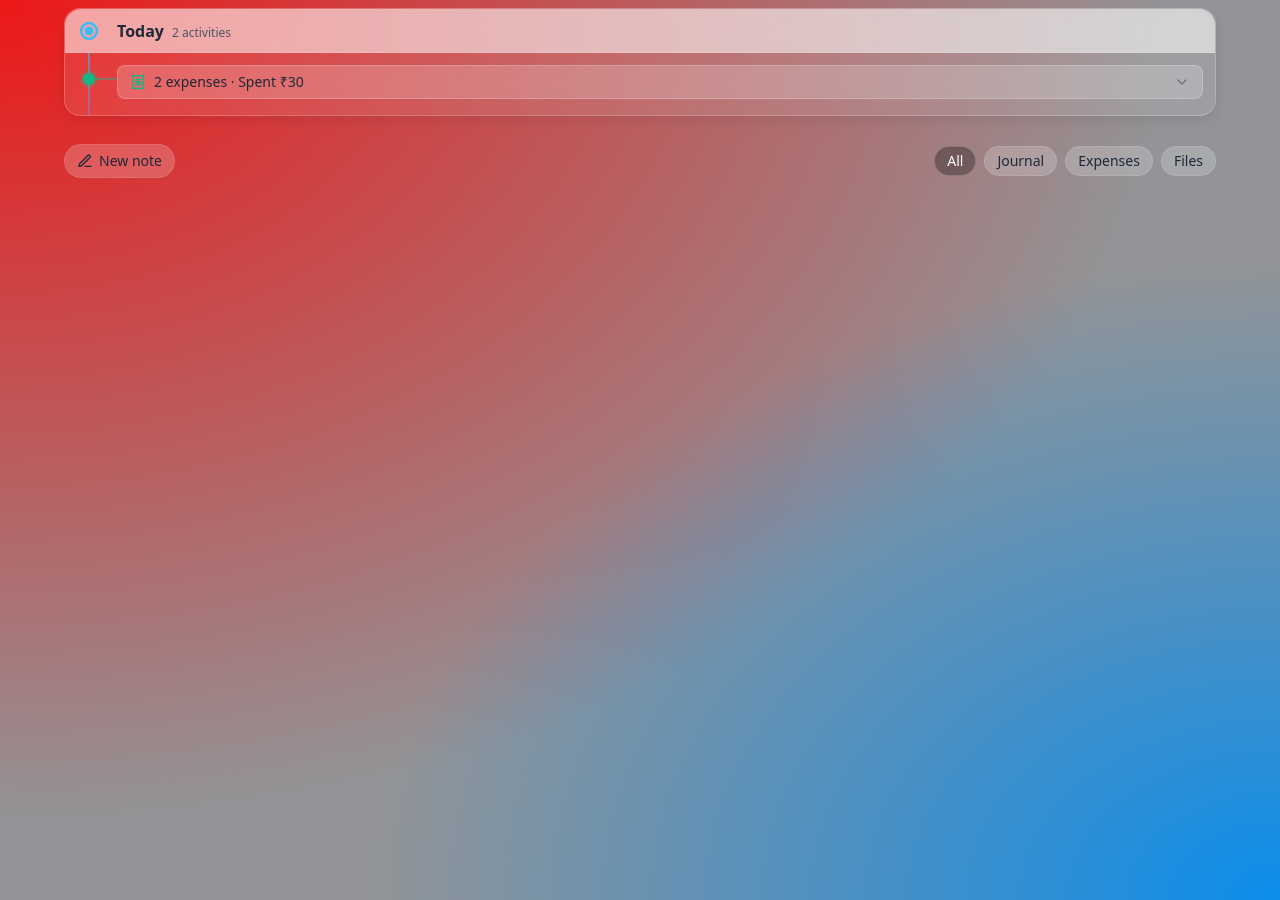
row links › keeps collapsed expense groups unrendered until opened
This screenshot has width=1280, height=900.
Expected: the text "Tea" is not shown
Click the button "2 expenses · Spent ₹30". click: (229, 82)
box: left=117, top=65, right=1203, bottom=99
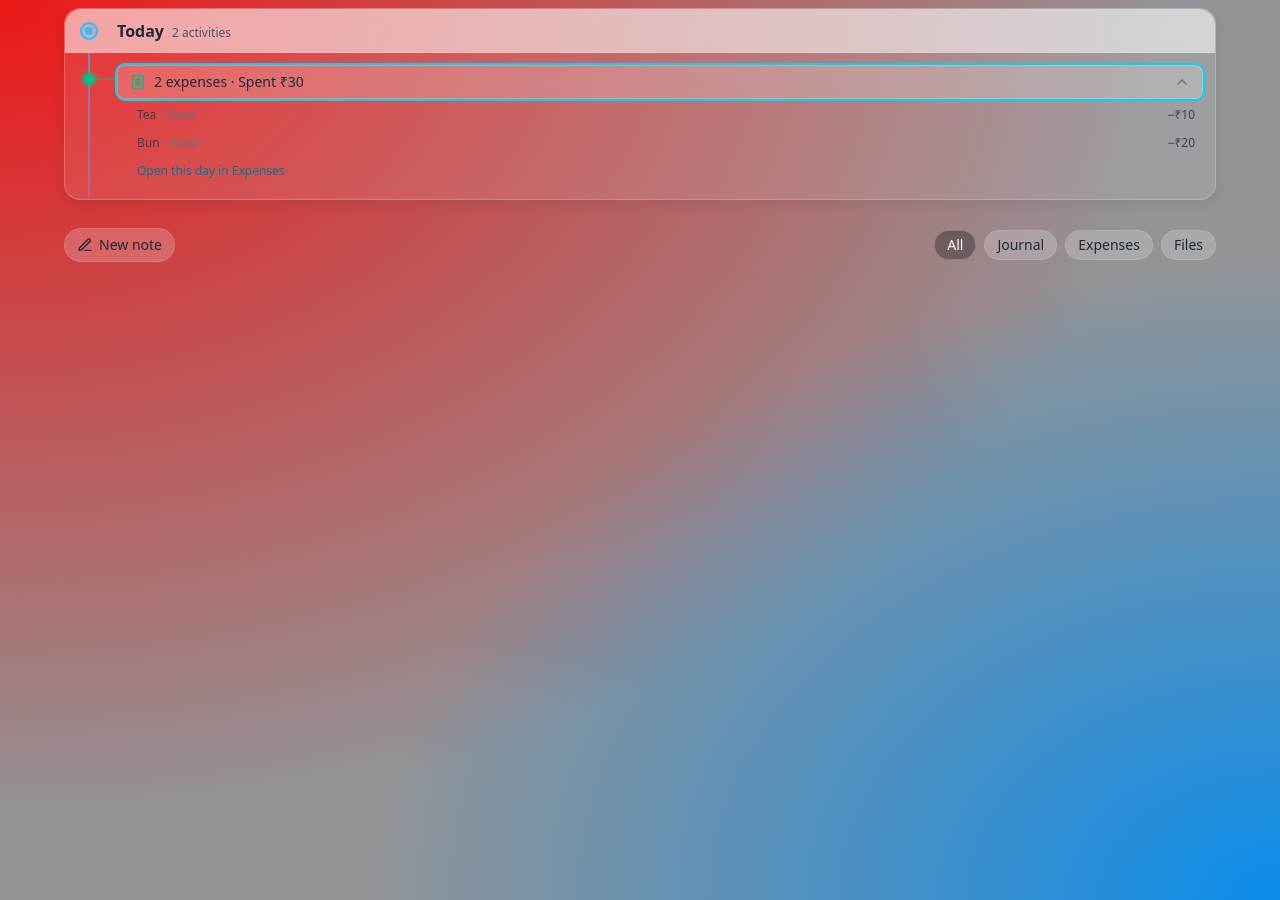
Now the text "Tea" is shown, box left=137, top=106, right=156, bottom=123
